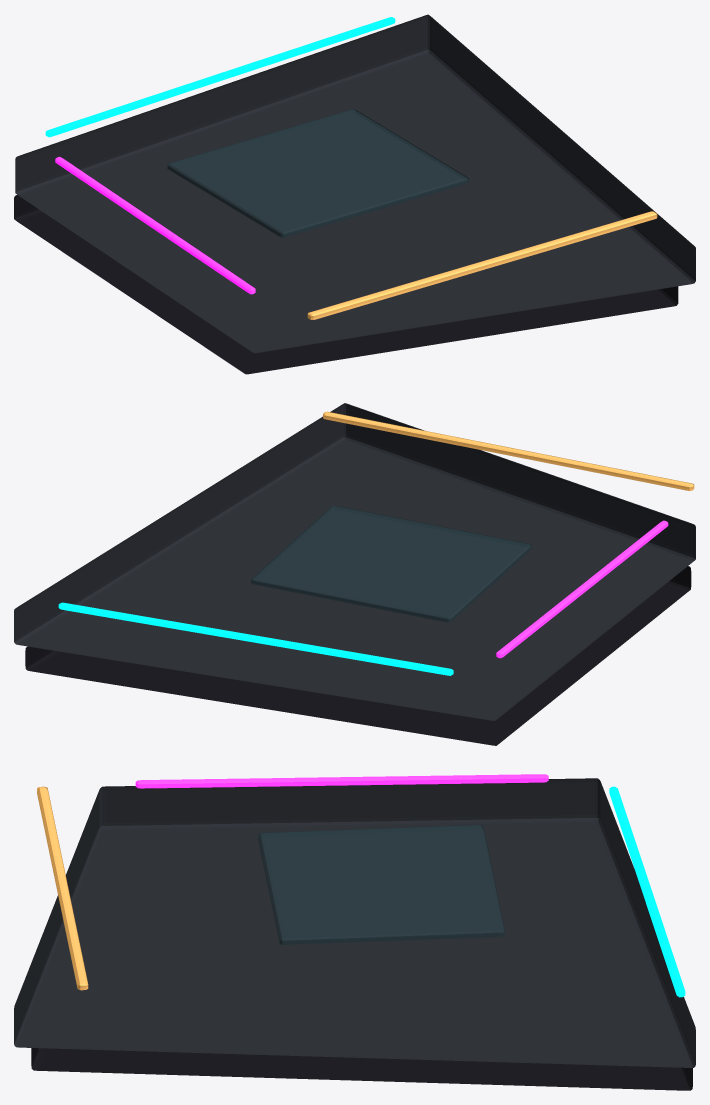
Rendered from desk_right_surface.glb.
3 renders of one model, top to bottom at view 1: azimuth 30°, elevation 25°; view 2: azimuth 150°, elevation 25°; view 3: azimuth 270°, elevation 25°, orthographic. The views are drawn at different scales.
Parts seen in each view (by area): view 1: desk_right_surface_main_trapezoid_shell, desk_right_surface_smoked_glass_insert, desk_right_surface_lower_shadow_base, desk_right_surface_warm_trim_rear, desk_right_surface_front_cyan_trace, desk_right_surface_inner_magenta_trace; view 2: desk_right_surface_main_trapezoid_shell, desk_right_surface_smoked_glass_insert, desk_right_surface_lower_shadow_base, desk_right_surface_warm_trim_rear, desk_right_surface_front_cyan_trace, desk_right_surface_inner_magenta_trace; view 3: desk_right_surface_main_trapezoid_shell, desk_right_surface_smoked_glass_insert, desk_right_surface_lower_shadow_base, desk_right_surface_inner_magenta_trace, desk_right_surface_warm_trim_rear, desk_right_surface_front_cyan_trace.
Boxes of the visible parts, x1,y1,x2,y2 form: desk_right_surface_main_trapezoid_shell: (15, 14, 695, 353); desk_right_surface_smoked_glass_insert: (167, 109, 468, 237); desk_right_surface_lower_shadow_base: (14, 195, 678, 374); desk_right_surface_warm_trim_rear: (307, 211, 657, 319); desk_right_surface_front_cyan_trace: (45, 17, 395, 137); desk_right_surface_inner_magenta_trace: (55, 156, 255, 294); desk_right_surface_main_trapezoid_shell: (14, 403, 695, 720); desk_right_surface_smoked_glass_insert: (251, 505, 531, 622); desk_right_surface_lower_shadow_base: (25, 566, 691, 745); desk_right_surface_warm_trim_rear: (323, 411, 694, 490); desk_right_surface_front_cyan_trace: (58, 602, 453, 675); desk_right_surface_inner_magenta_trace: (496, 520, 668, 658); desk_right_surface_main_trapezoid_shell: (14, 778, 695, 1067); desk_right_surface_smoked_glass_insert: (258, 824, 504, 944); desk_right_surface_lower_shadow_base: (31, 1048, 692, 1090); desk_right_surface_inner_magenta_trace: (135, 774, 548, 788); desk_right_surface_warm_trim_rear: (37, 786, 88, 990); desk_right_surface_front_cyan_trace: (609, 786, 685, 997).
Bounding box in the file's own units: 3.01 × 0.4875 × 3.46.
